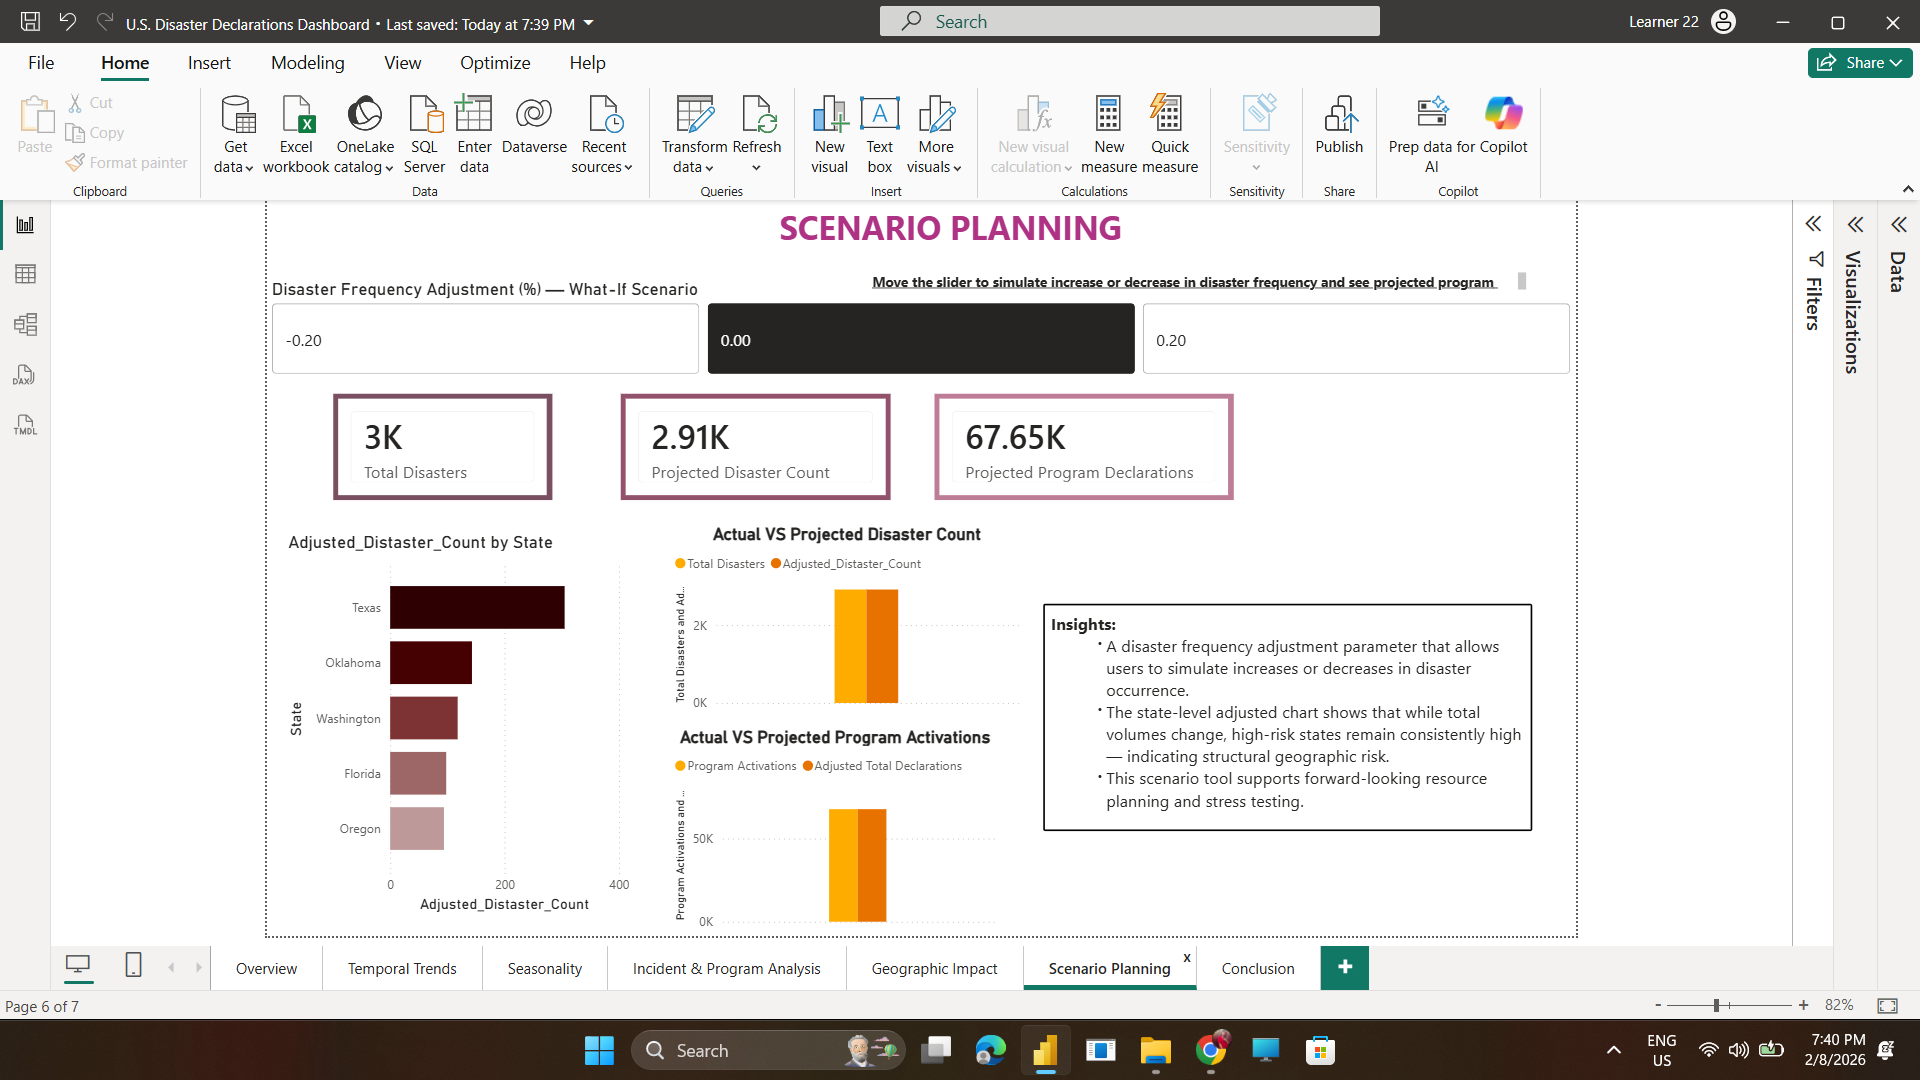

This screenshot's page, from the dashboard's own definition file:
{"tool":"powerbi","page":{"name":"Scenario Planning","canvas":[1280,720],"ordinal":5},"visuals":[{"type":"advancedSlicerVisual","title":"Disaster Frequency Adjustment (%) — What-If Scenario","fields":{"Values":["Disaster frequency Adjustments (%).Disaster frequency Adjustments (%)"]},"box":[0,77.1,1281.4,98.6],"z":0},{"type":"cardVisual","fields":{"Data":["Disaster frequency Adjustments (%).Adjusted_Distaster_Count"]},"box":[345.7,190,264.3,104.3],"z":1000},{"type":"cardVisual","fields":{"Data":["US Disaster_Declarations.Total_Disasters"]},"box":[64.3,190,214.3,104.3],"z":2000},{"type":"cardVisual","fields":{"Data":["Disaster frequency Adjustments (%).Adjusted Total Declarations"]},"box":[652.9,190,292.9,104.3],"z":3000},{"type":"clusteredBarChart","fields":{"Y":["Disaster frequency Adjustments (%).Adjusted_Distaster_Count"],"Category":["US_States_and_Territories.Full Name"]},"box":[15.9,324.1,343.6,377.9],"z":4000},{"type":"clusteredColumnChart","title":"Actual VS Projected Disaster Count","fields":{"Y":["US Disaster_Declarations.Total Disasters","Disaster frequency Adjustments (%).Adjusted_Distaster_Count"]},"box":[393.8,316.7,347.3,189.5],"z":5000},{"type":"clusteredColumnChart","title":"Actual VS Projected Program Activations","fields":{"Y":["US Disaster_Declarations.Program Activations","Disaster frequency Adjustments (%).Adjusted Total Declarations"]},"box":[393.8,514.8,324.1,205.4],"z":6000},{"type":"textbox","box":[393.8,0,550,52.5],"z":7000},{"type":"textbox","box":[587.1,65.7,650,27.1],"z":8000},{"type":"textbox","box":[759.4,395,478.1,222.6],"z":9000}]}

Visuals, with their boxes on the page's 1280x720 design canvas (x1, y1, x2, y2). These are canvas units, not pixel positions in the 1920x1080 screenshot, which may show the page scaled, cropped or inside an application window:
"Disaster Frequency Adjustment (%) — What-If Scenario" advancedSlicerVisual: x1=0, y1=77, x2=1281, y2=176
cardVisual - Disaster frequency Adjustments (%).Adjusted_Distaster_Count: x1=346, y1=190, x2=610, y2=294
cardVisual - US Disaster_Declarations.Total_Disasters: x1=64, y1=190, x2=279, y2=294
cardVisual - Disaster frequency Adjustments (%).Adjusted Total Declarations: x1=653, y1=190, x2=946, y2=294
clusteredBarChart - Disaster frequency Adjustments (%).Adjusted_Distaster_Count x US_States_and_Territories.Full Name: x1=16, y1=324, x2=360, y2=702
"Actual VS Projected Disaster Count" clusteredColumnChart: x1=394, y1=317, x2=741, y2=506
"Actual VS Projected Program Activations" clusteredColumnChart: x1=394, y1=515, x2=718, y2=720
textbox: x1=394, y1=0, x2=944, y2=52
textbox: x1=587, y1=66, x2=1237, y2=93
textbox: x1=759, y1=395, x2=1238, y2=618
